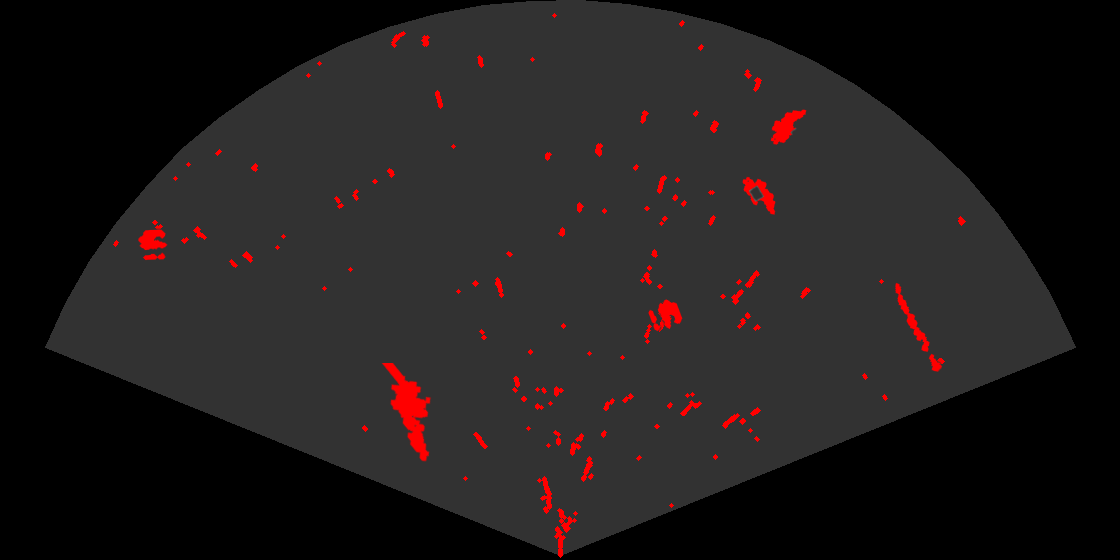AUV: (769, 108, 808, 146), (741, 175, 777, 216)
ball: (647, 298, 684, 333), (137, 228, 169, 262)
chain: (894, 281, 944, 373)
frogman: (380, 363, 433, 463)
